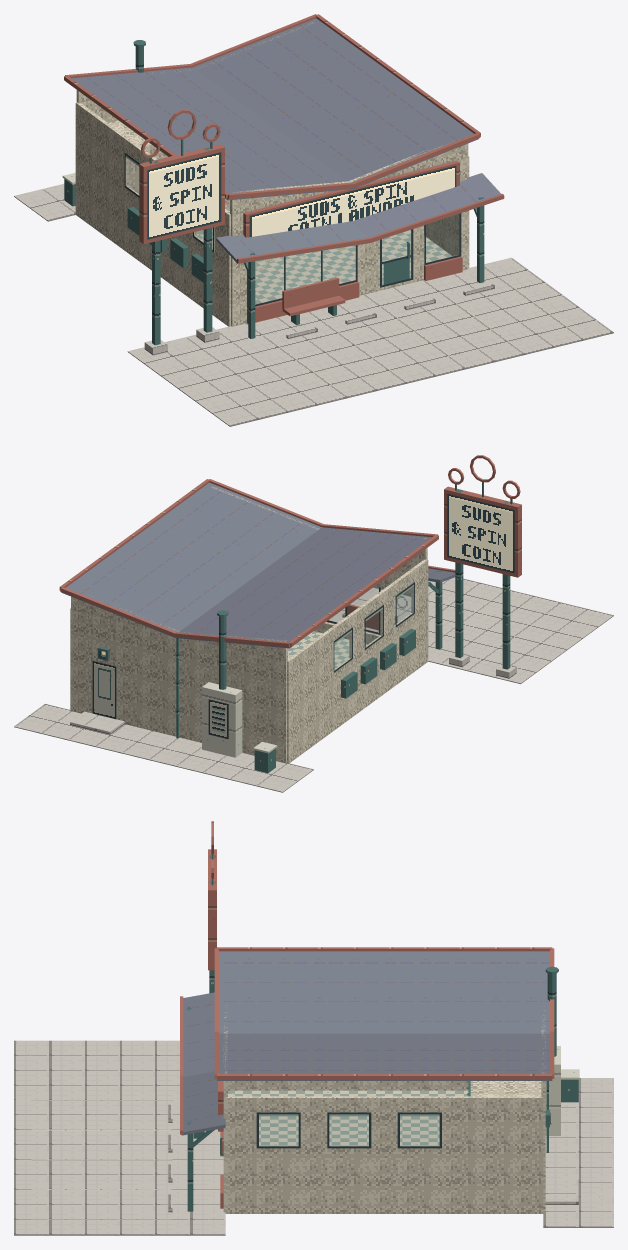
The model's file is coin-laundromat.glb.
3 renders of one model, top to bottom at view 1: azimuth 30°, elevation 25°; view 2: azimuth 150°, elevation 25°; view 3: azimuth 270°, elevation 25°, orthographic. The views are drawn at different scales.
Parts seen in each view (by area): view 1: structure__roof_membrane, lot__ground_paving, structure__wall_stucco, structure__detail_coral, sign_name, roadside_sign__sign_name, structure__ground_terrazzo, structure__detail_steel, roadside_sign__detail_coral, roadside_sign__detail_steel, outside_bench__detail_coral, structure__glass_storefront (+2 smaller); view 2: structure__roof_membrane, structure__wall_stucco, lot__ground_paving, structure__detail_coral, roadside_sign__sign_name, structure__detail_steel, roadside_sign__detail_coral, structure__detail_enamel, roadside_sign__detail_steel, panel_door_back__detail_panels, structure__glass_storefront, structure__ground_paving (+2 smaller); view 3: structure__roof_membrane, lot__ground_paving, structure__wall_stucco, structure__detail_coral, structure__ground_terrazzo, structure__glass_storefront, structure__detail_steel, roadside_sign__detail_coral, lot__detail_enamel, structure__detail_enamel, structure__ground_paving.
Part boxes in pixels (box(x1,y1,x2,y2)): structure__roof_membrane: box(71, 18, 500, 263); lot__ground_paving: box(14, 184, 613, 426); structure__wall_stucco: box(75, 22, 469, 326); structure__detail_coral: box(64, 14, 504, 323); sign_name: box(249, 165, 456, 236); roadside_sign__sign_name: box(147, 152, 221, 239); structure__ground_terrazzo: box(196, 208, 451, 304); structure__detail_steel: box(127, 40, 484, 338); roadside_sign__detail_coral: box(139, 110, 224, 244); roadside_sign__detail_steel: box(149, 139, 212, 345); outside_bench__detail_coral: box(282, 277, 345, 316); structure__glass_storefront: box(124, 152, 461, 308); structure__roof_membrane: box(61, 482, 455, 648); structure__wall_stucco: box(70, 486, 428, 763); lot__ground_paving: box(14, 577, 613, 792); structure__detail_coral: box(59, 479, 455, 647); roadside_sign__sign_name: box(447, 494, 514, 573); structure__detail_steel: box(97, 570, 442, 738); roadside_sign__detail_coral: box(444, 455, 521, 577); structure__detail_enamel: box(202, 682, 242, 757); roadside_sign__detail_steel: box(455, 482, 512, 669); panel_door_back__detail_panels: box(92, 661, 116, 719); structure__glass_storefront: box(327, 582, 414, 672); structure__ground_paving: box(70, 711, 124, 734); structure__roof_membrane: box(181, 951, 552, 1135); lot__ground_paving: box(14, 1040, 613, 1235); structure__wall_stucco: box(223, 1005, 545, 1213); structure__detail_coral: box(180, 947, 554, 1208); structure__ground_terrazzo: box(228, 1090, 468, 1146); structure__glass_storefront: box(256, 1112, 441, 1148); structure__detail_steel: box(187, 966, 558, 1211); roadside_sign__detail_coral: box(208, 821, 216, 970); lot__detail_enamel: box(31, 1100, 172, 1219); structure__detail_enamel: box(545, 1046, 560, 1135); structure__ground_paving: box(545, 1179, 578, 1204).
Size of what is drawn, in the model's own units: 16.14 by 9.43 by 21.11.
Materials: 11 (11 with a texture image).
